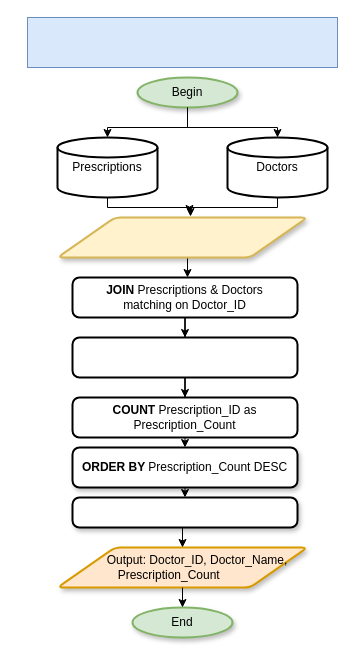
Image size: 355x663. Some labels were removed from this diagram. The shapes that lost their labels are listed below. From the top down, each one's centre as x and y in pixels, then its label:
At [182,42]: "Flowchart: Identify which doctor has made the most prescriptions".
At [183,238]: "Load records from Prescriptions and Doctors".
At [184,357]: "GROUP Prescriptions BY Doctor_ID & Doctor_Name".
At [185,513]: "LIMIT 1 (return highest Prescription_Count)".
